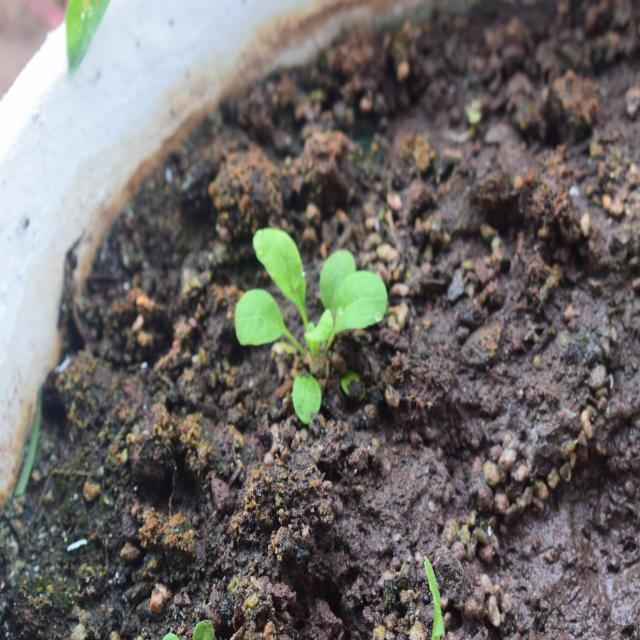Shepherd_Purse: (216, 210, 389, 398)
